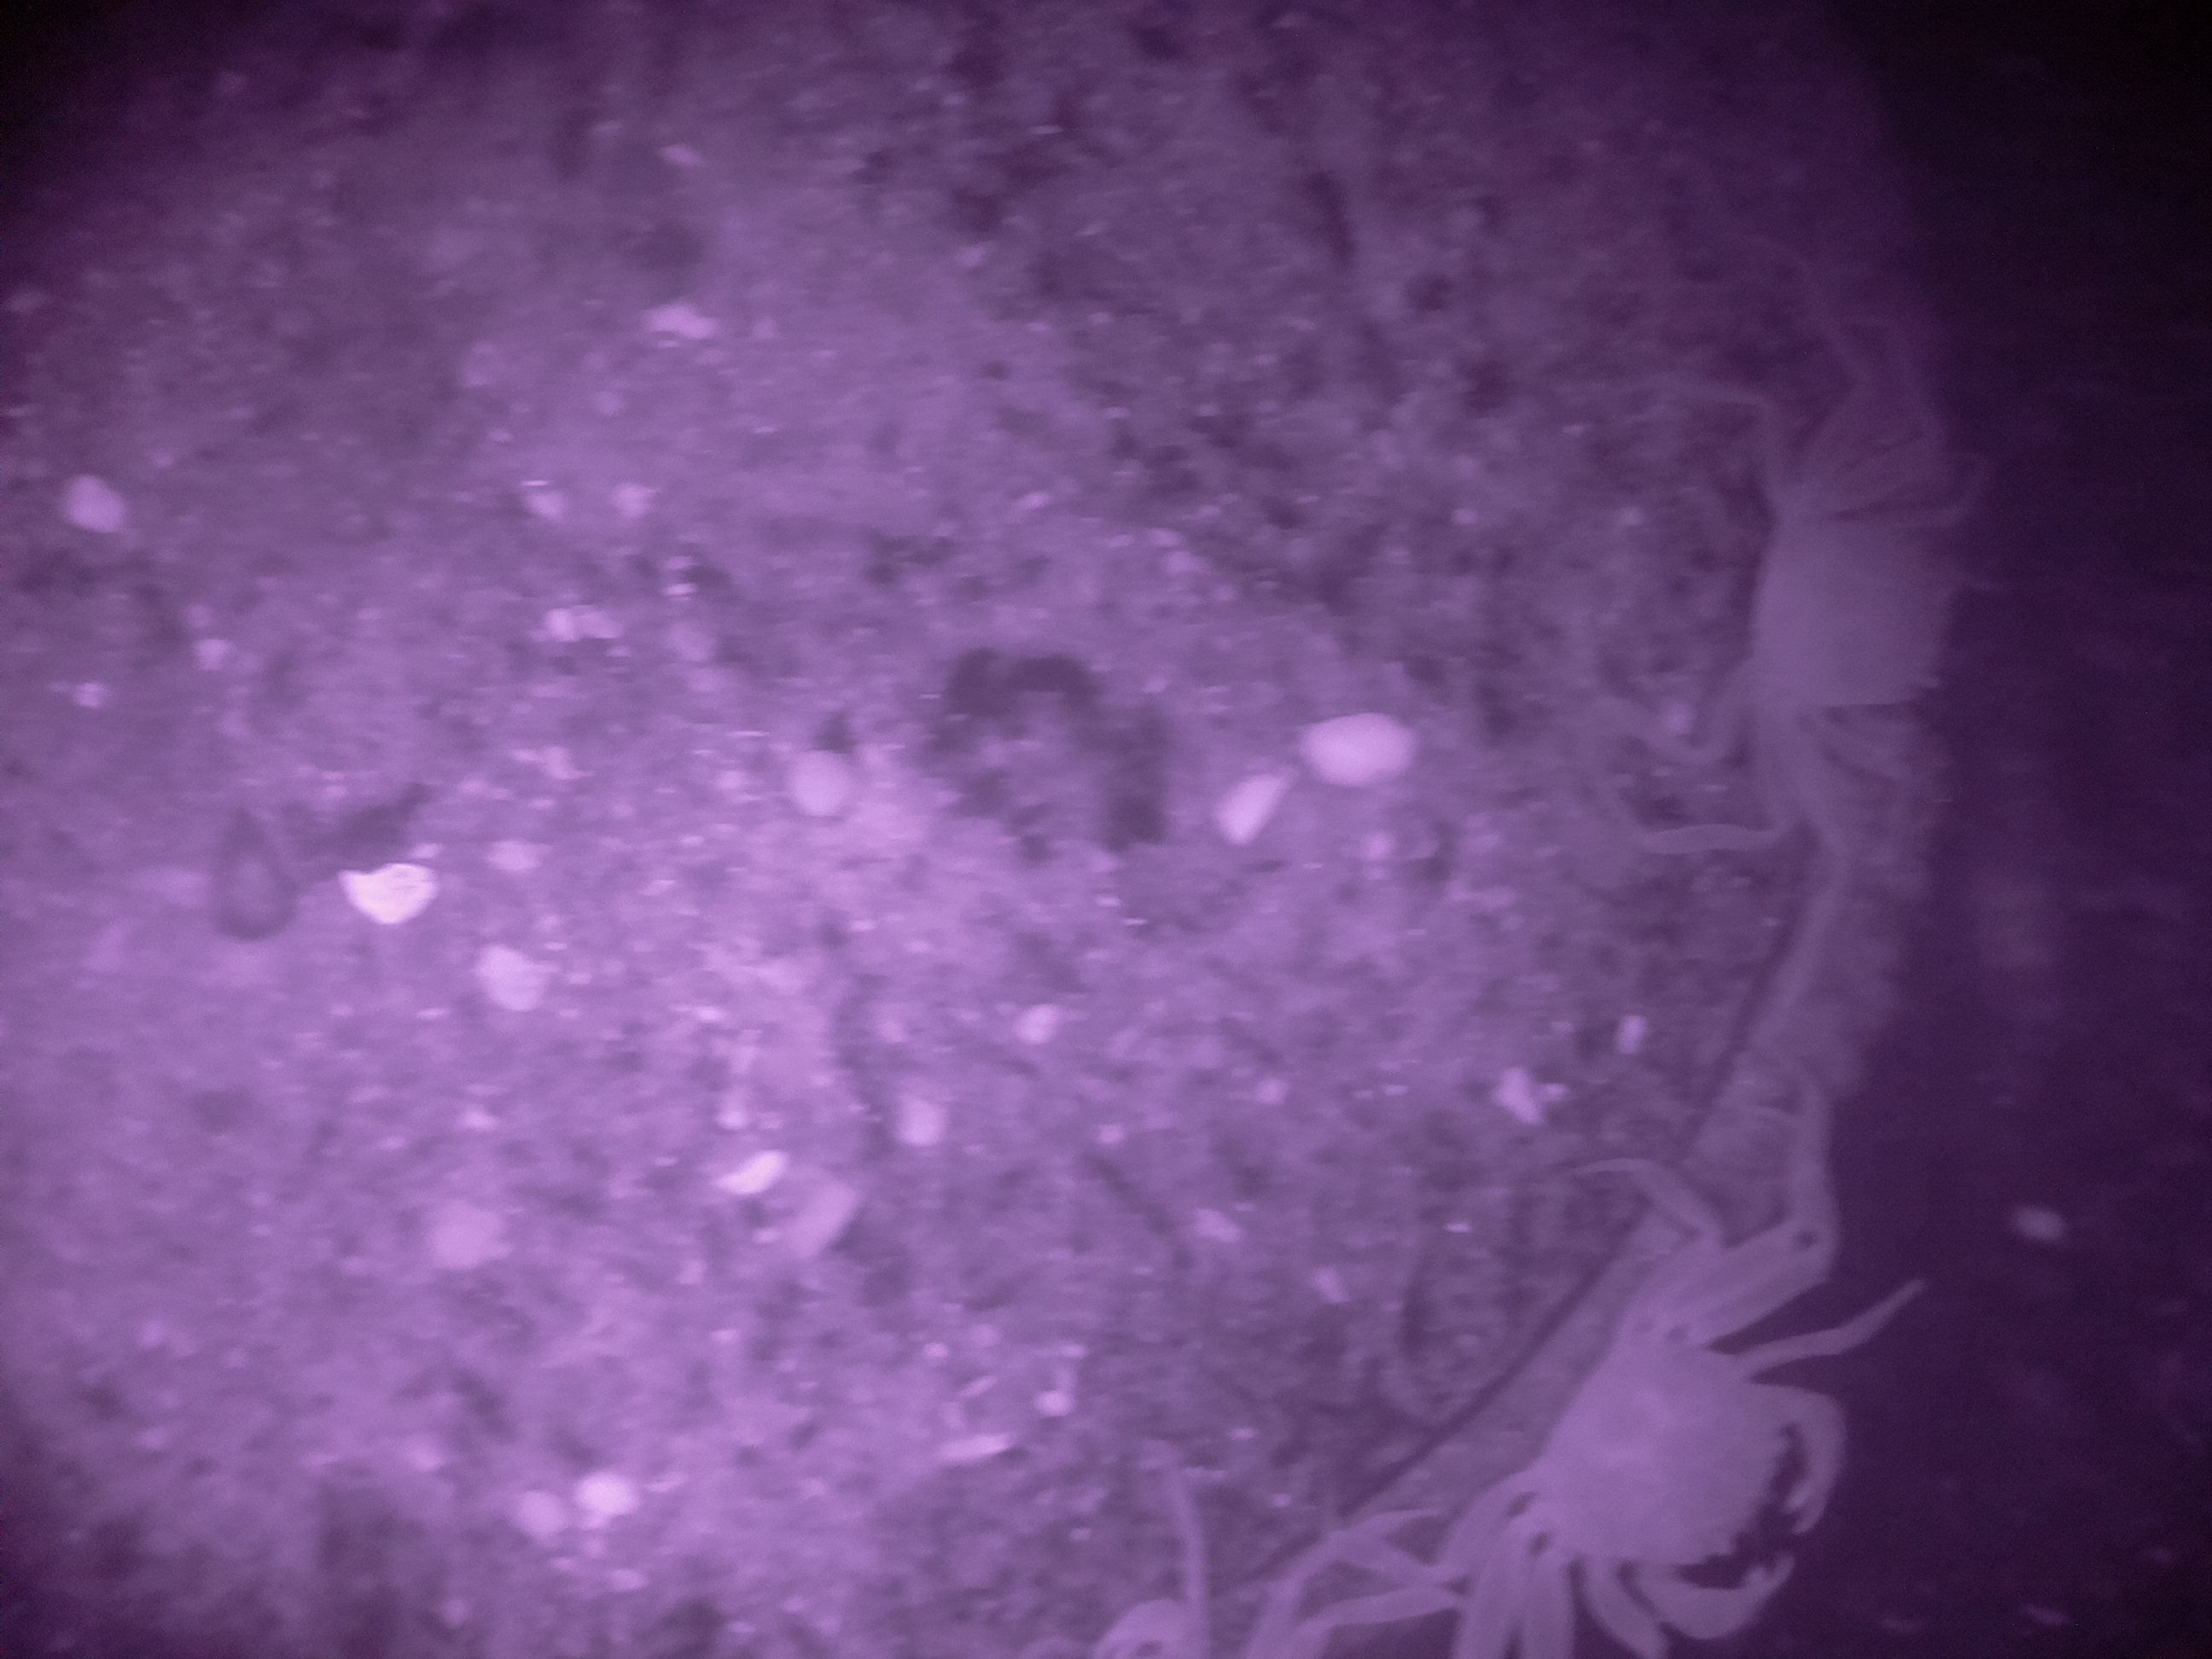Crab: (1383, 1161, 1916, 1659), (1681, 369, 2038, 864)
